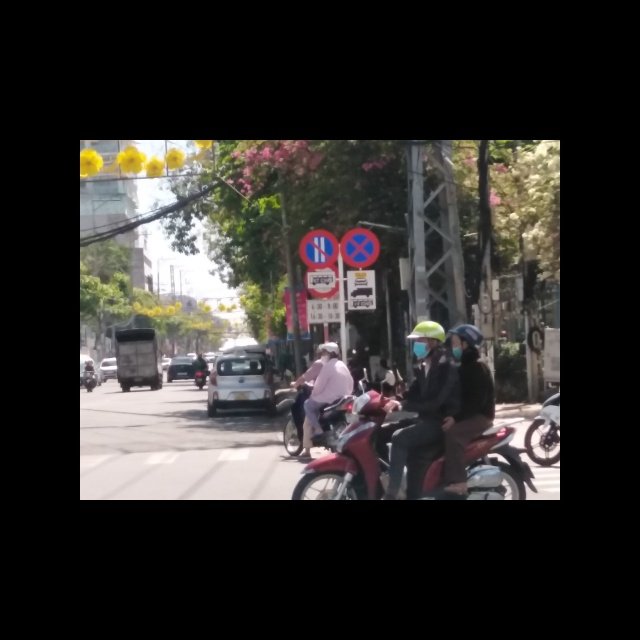Cấm dừng xe và đỗ xe: (339, 228, 380, 269)
Cấm đỗ xe ngày chẵn: (298, 229, 338, 268)
